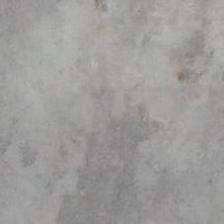Non_Crack: (16, 15, 224, 207)
